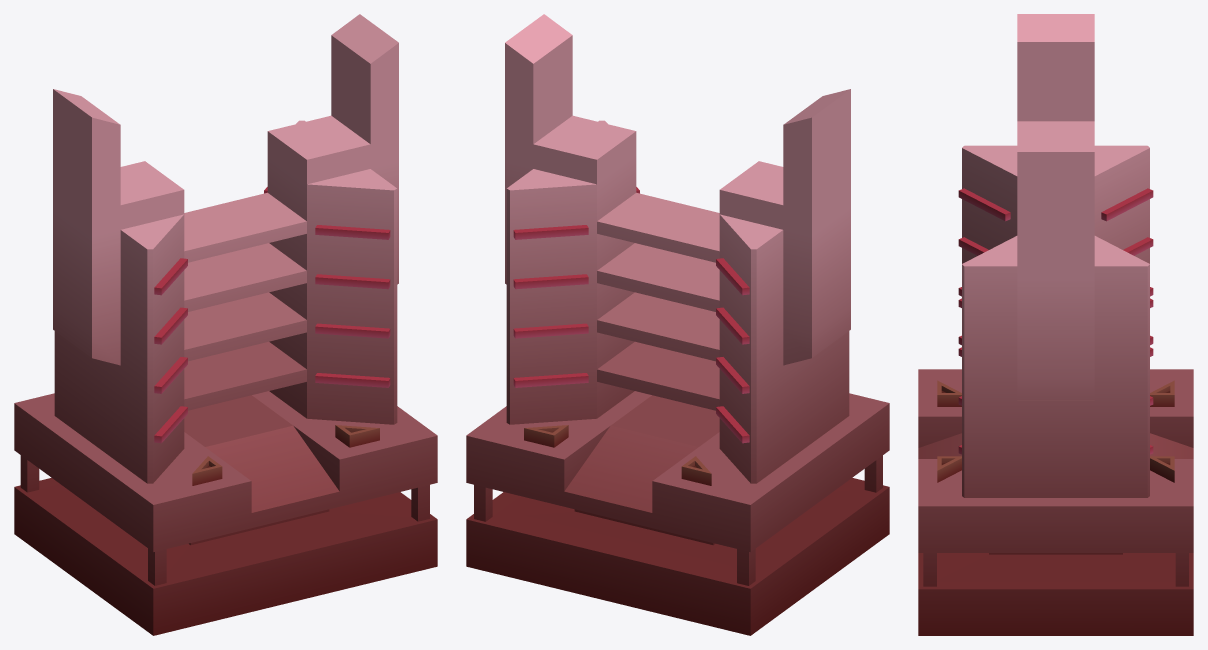
3 renders of one model, left to right at view 1: azimuth 30°, elevation 25°; view 2: azimuth 150°, elevation 25°; view 3: azimuth 270°, elevation 25°, orthographic.
Parts seen in each view (by area): view 1: Cube.096; view 2: Cube.096; view 3: Cube.096.
Part boxes in pixels (x1,y1,x2,y2): Cube.096: (14,14,437,635); Cube.096: (466,14,889,635); Cube.096: (918,14,1193,635).
Size of the model in its own units: 26.04 by 39.28 by 20.46.
